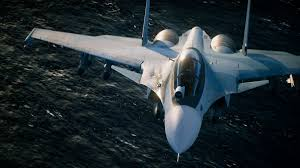maybay_muctieu: (20, 2, 300, 161)
